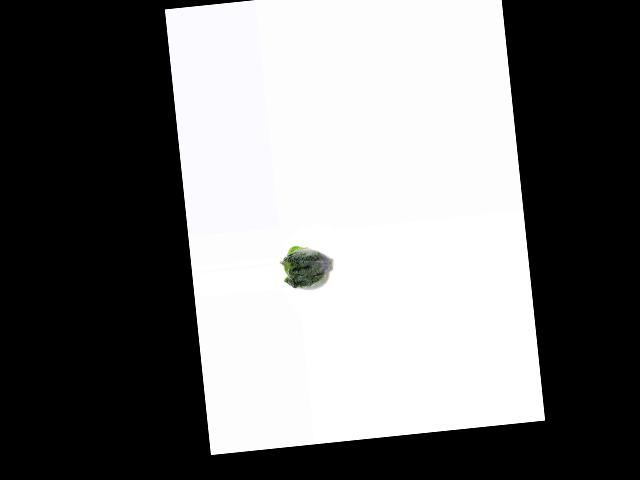lettuce: (279, 240, 335, 294)
